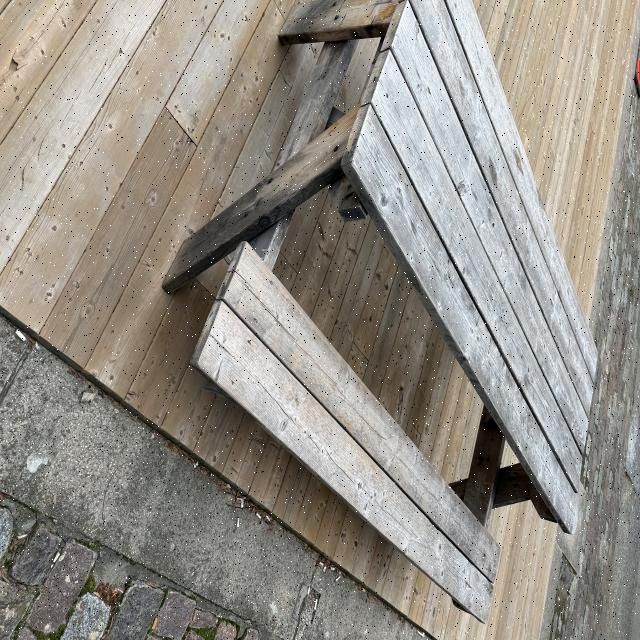Bench: (163, 62, 610, 592)
